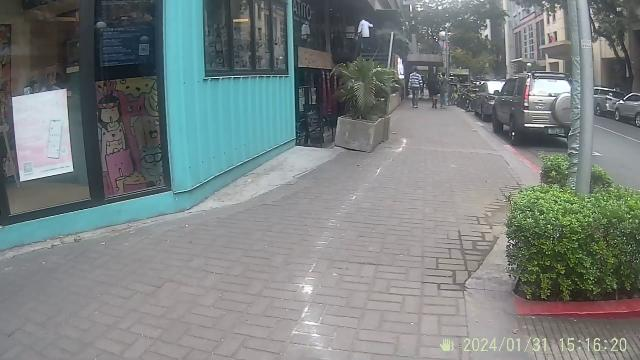potted_plant: (502, 178, 640, 338), (332, 72, 398, 156)
